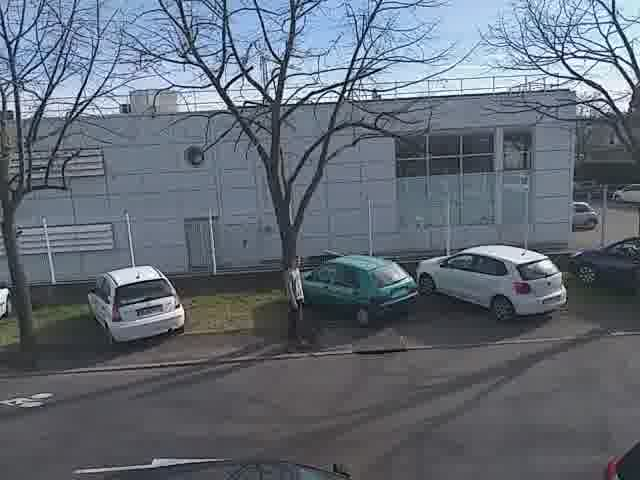persona: (278, 246, 313, 351)
